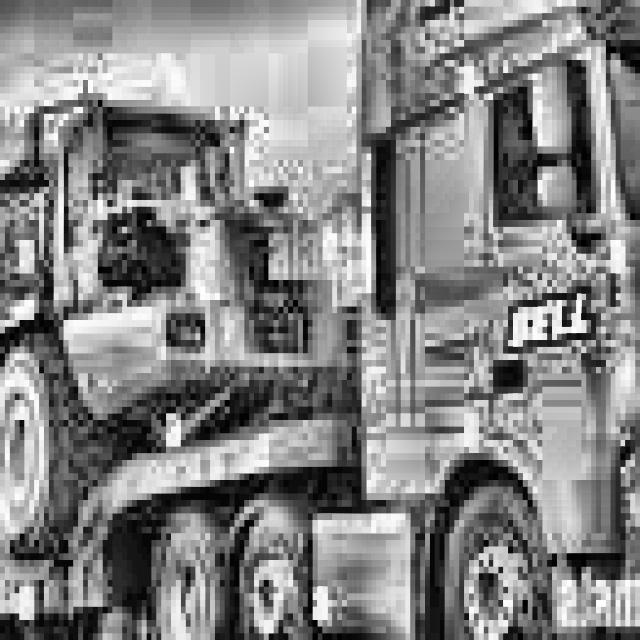dump_truck: (337, 0, 640, 640), (0, 60, 347, 560)
